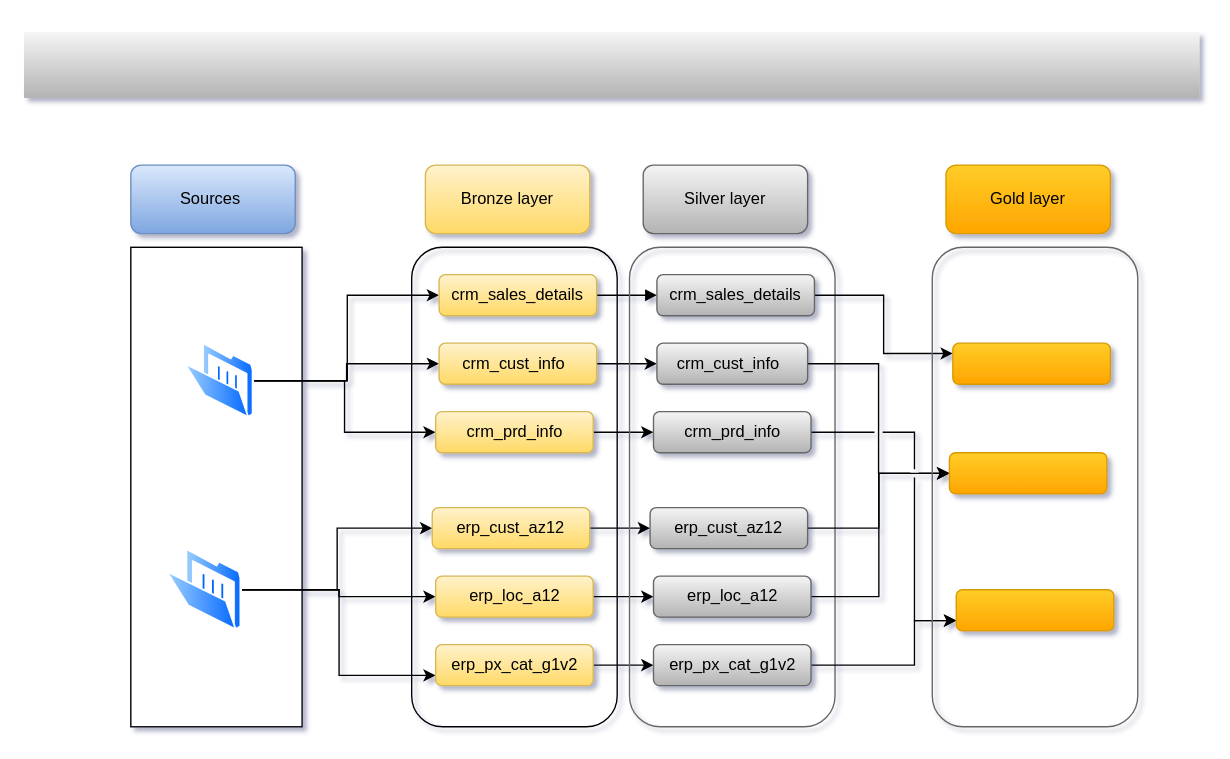
Some shapes in this 1230 by 759 pixel diagram are drawn without their labels. Here are the shapes that lost their labels. From the top down, the box of each, then its label:
(23, 32, 1199, 97): Workflow
(184, 342, 253, 418): CRM
(951, 342, 1110, 384): fact_sales
(948, 451, 1107, 494): dim_customers
(166, 548, 241, 630): ERP
(955, 588, 1114, 631): dim_products
